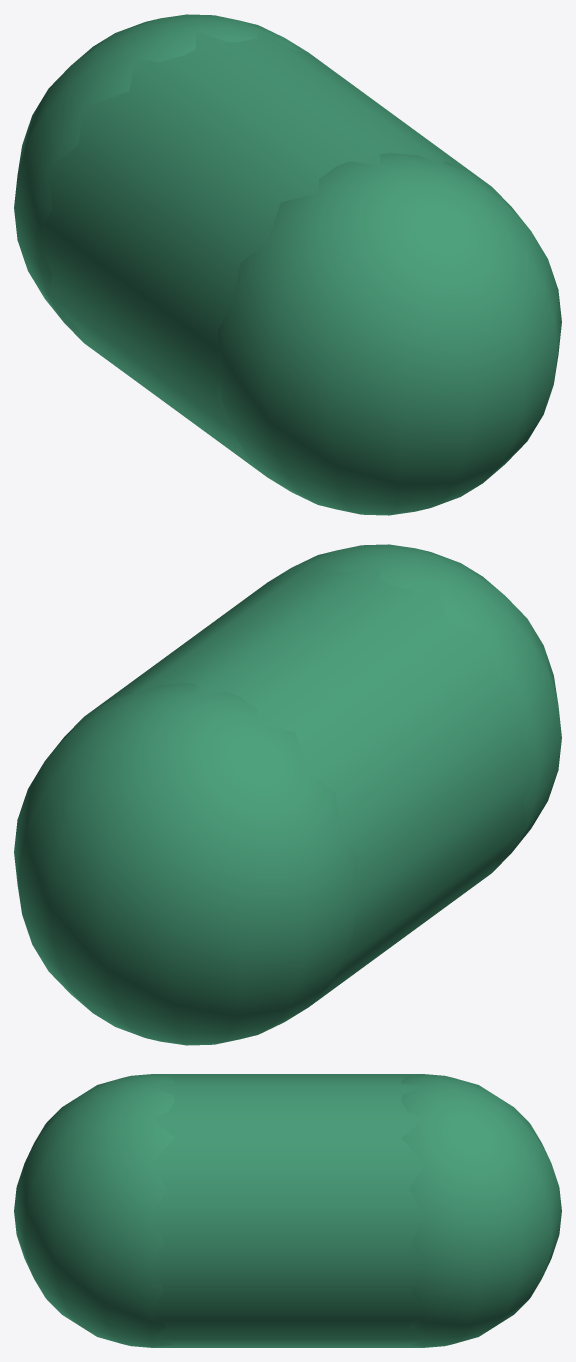
3 views of the same model, one above another, from view 1: azimuth 30°, elevation 25°; view 2: azimuth 150°, elevation 25°; view 3: azimuth 270°, elevation 25° (orthographic). The views are drawn at different scales.
Visible parts, largest first — view 1: pSphere3; view 2: pSphere3; view 3: pSphere3.
Boxes of the visible parts, x1,y1,x2,y2 form: pSphere3: (14,14,561,515); pSphere3: (14,544,561,1045); pSphere3: (14,1074,561,1347).
Bounding box in the file's own units: 1 × 1 × 2.
